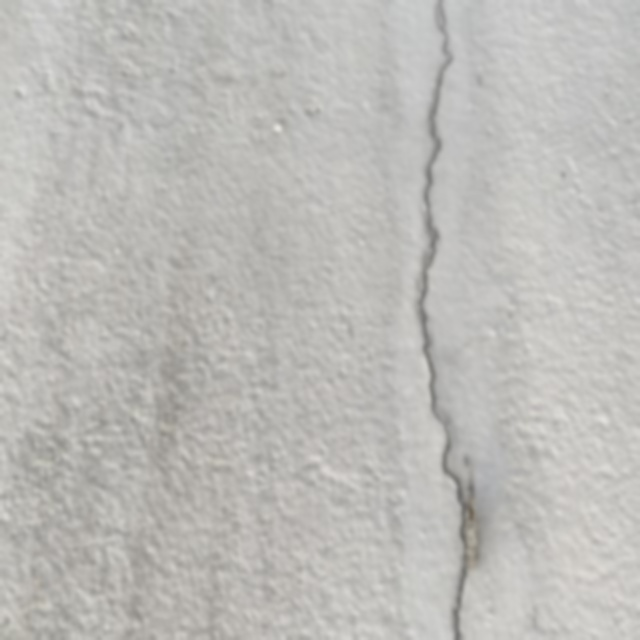SurfaceCrack: (374, 1, 511, 640)
